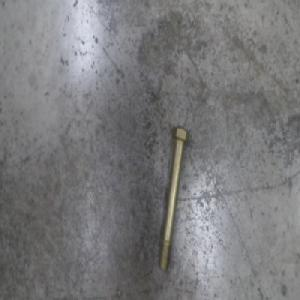Bolt: (156, 125, 188, 272)
